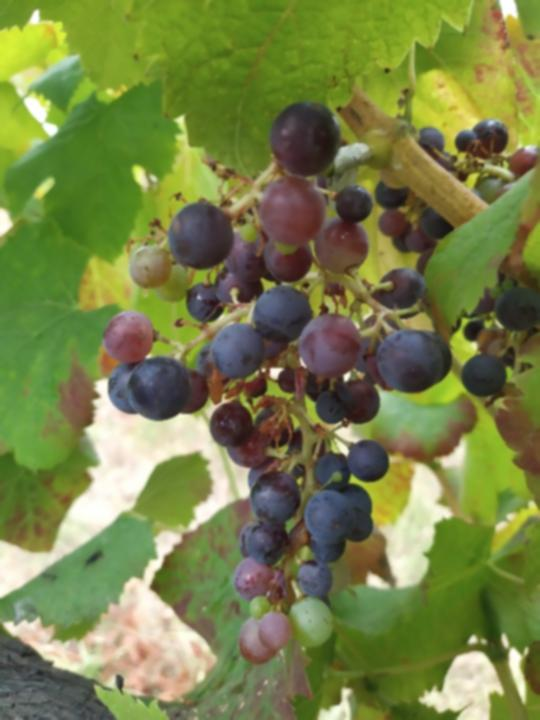grape: (92, 96, 456, 666)
